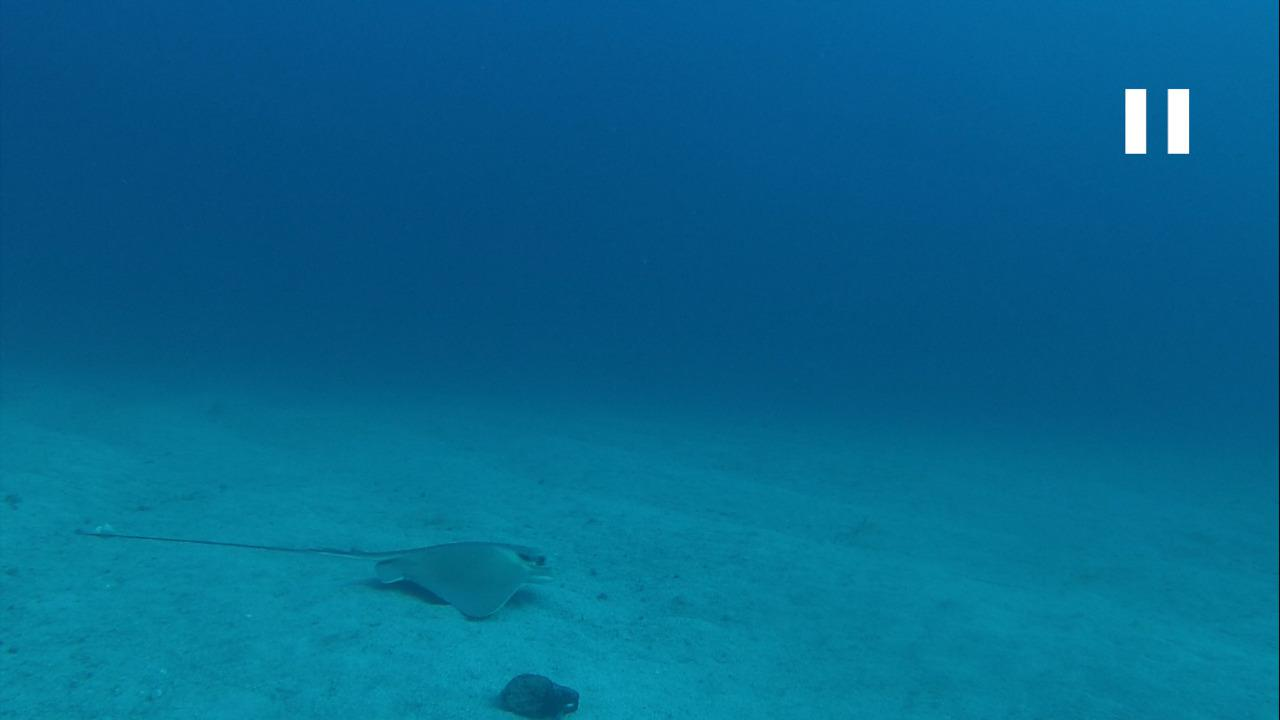myliobatis: (60, 514, 558, 629)
